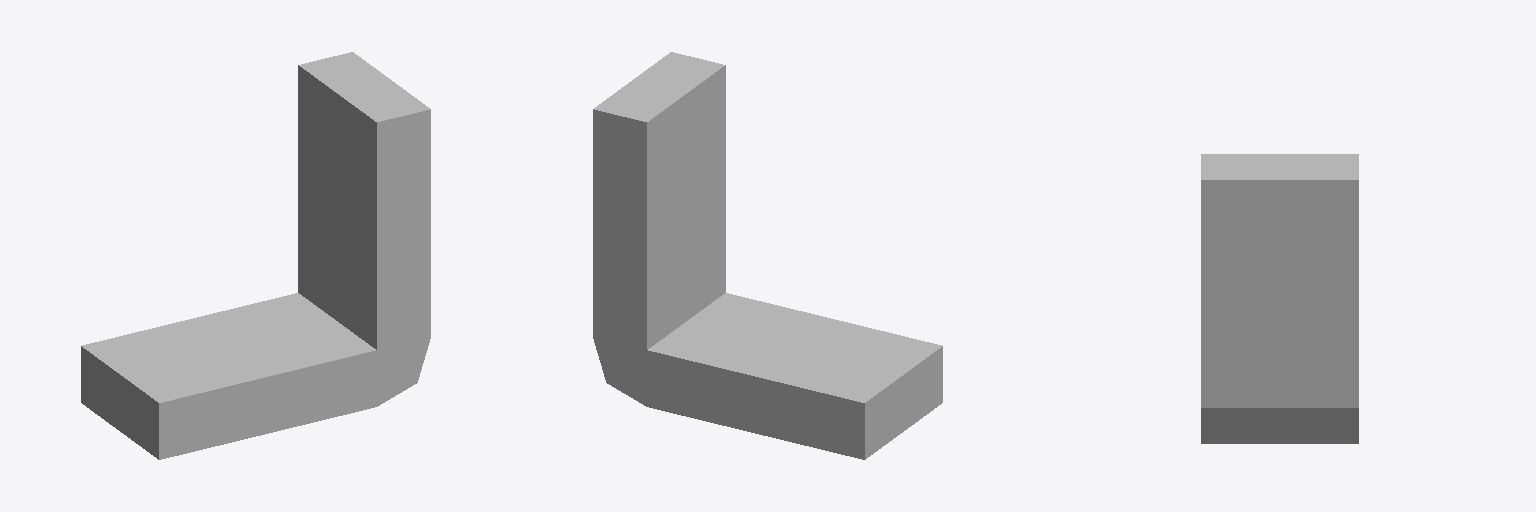
File: wall-corner-rounded-low.obj
3 renders of one model, left to right at view 1: azimuth 30°, elevation 25°; view 2: azimuth 150°, elevation 25°; view 3: azimuth 270°, elevation 25°, orthographic.
Parts seen in each view (by area): view 1: wall-corner-rounded-low.004; view 2: wall-corner-rounded-low.004; view 3: wall-corner-rounded-low.004.
Part boxes in pixels (bbox=[...]): wall-corner-rounded-low.004: bbox=[81, 52, 430, 459]; wall-corner-rounded-low.004: bbox=[593, 52, 942, 459]; wall-corner-rounded-low.004: bbox=[1201, 154, 1358, 443].
Bounding box in the file's own units: 1 × 1 × 0.5.